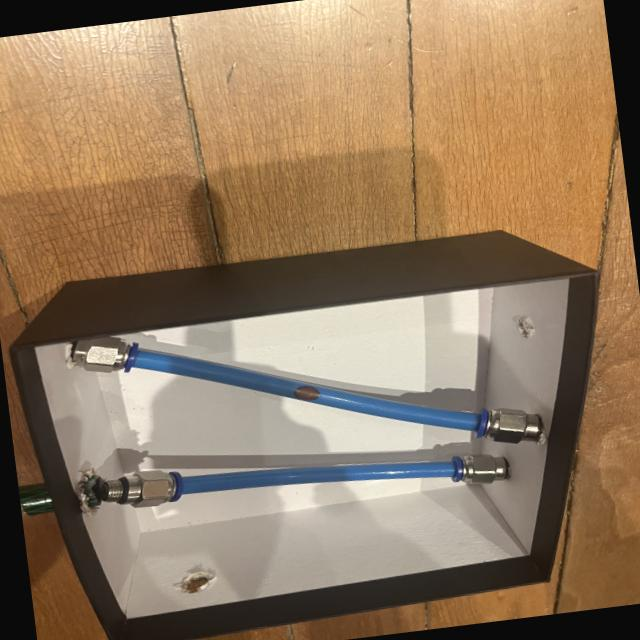hose_damage: (291, 380, 322, 406)
